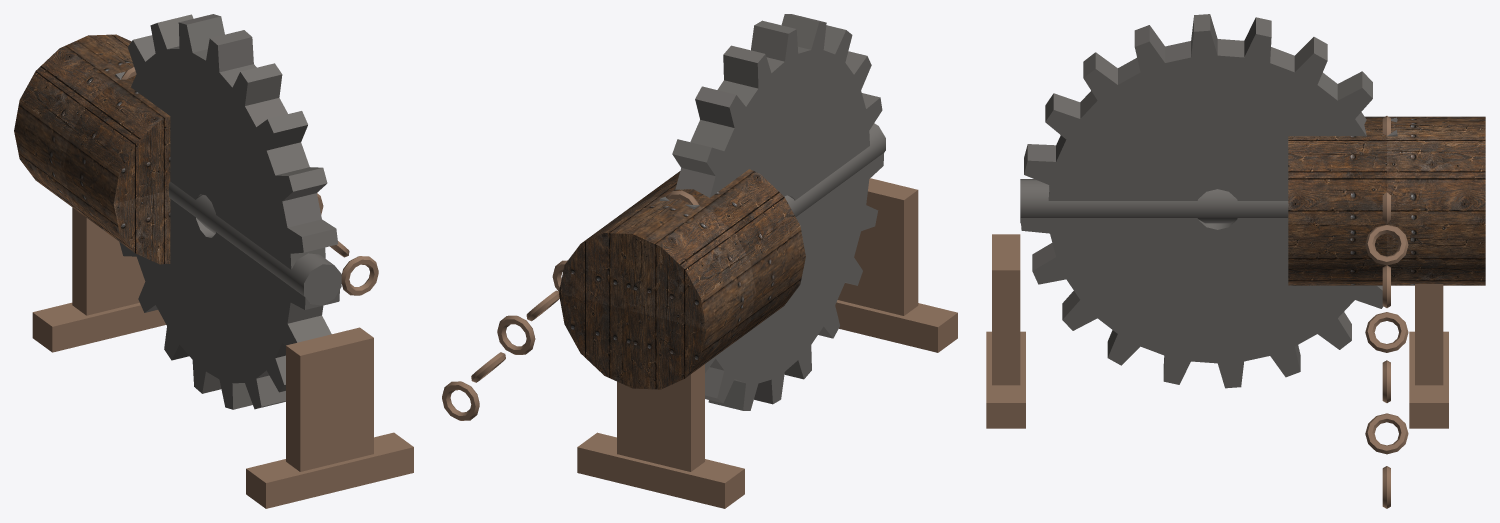
Rendered from lift-mechanism-part-v01.glb.
The picture shows the model from 3 angles, left to right: view 1: azimuth 30°, elevation 25°; view 2: azimuth 150°, elevation 25°; view 3: azimuth 270°, elevation 25°; orthographic projection.
Visible parts, largest first — view 1: lift-mechanism-part; view 2: lift-mechanism-part; view 3: lift-mechanism-part.
Boxes of the visible parts, x1=… form: lift-mechanism-part: x1=14, y1=14, x2=413, y2=508; lift-mechanism-part: x1=442, y1=14, x2=957, y2=508; lift-mechanism-part: x1=986, y1=14, x2=1485, y2=508.
Bounding box in the file's own units: 1.28 × 1.48 × 1.77.
Materials: 3 (1 with a texture image).
